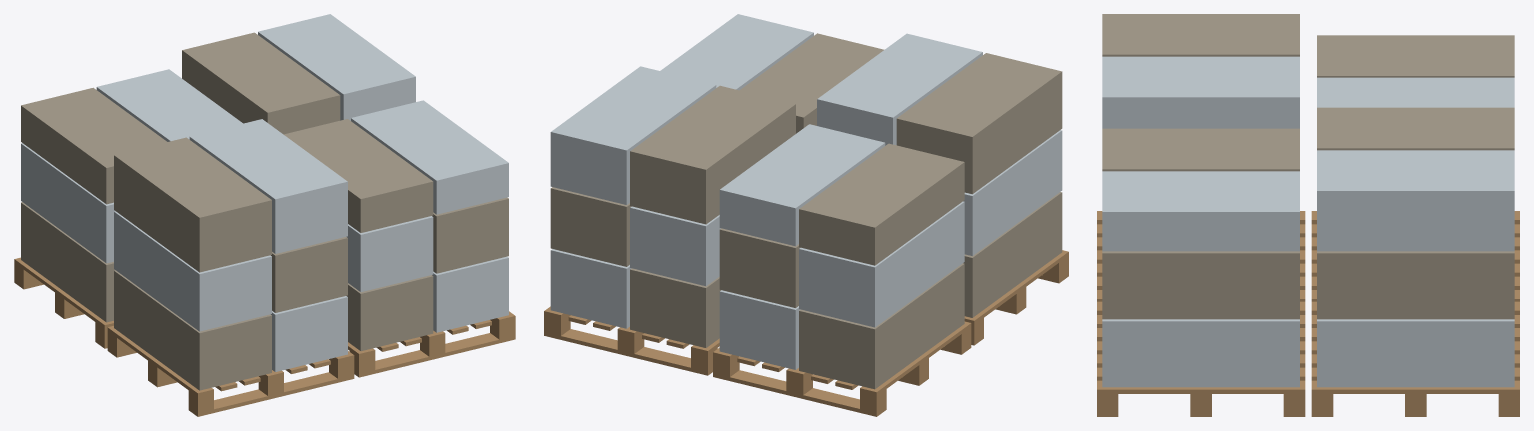
Rendered from prop_fish_blocks.glb.
3 views of the same model, side by side, from view 1: azimuth 30°, elevation 25°; view 2: azimuth 150°, elevation 25°; view 3: azimuth 270°, elevation 25° (orthographic). The views are drawn at different scales.
Parts seen in each view (by area): view 1: Blocks; view 2: Blocks; view 3: Blocks.
Part boxes in pixels (x1,y1,x2,y2): Blocks: [14, 14, 515, 416]; Blocks: [544, 14, 1068, 416]; Blocks: [1097, 14, 1519, 416].
Size of what is drawn, in the model's own units: 1.97 by 1.16 by 1.97.
